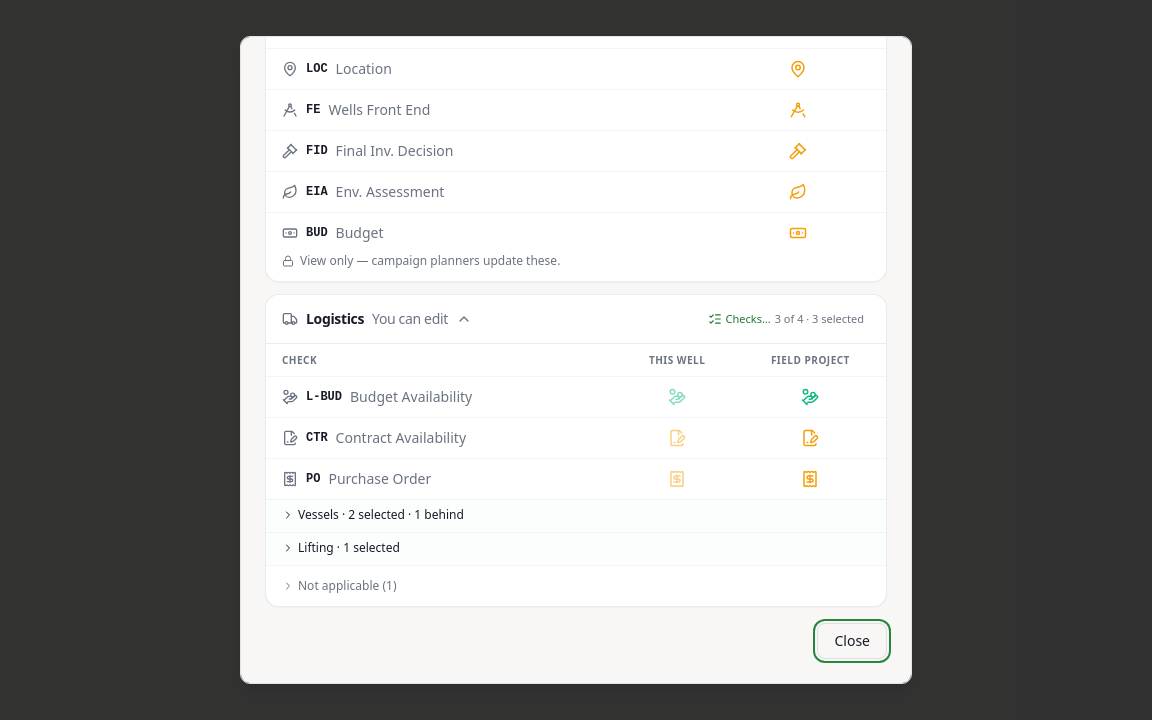
Readiness panel — category sub-sections (spec §8.8) › the field-project column is blank where the field project didn't select the type
(page scrolled)
Step 1. Click the button "Lifting · 1 selected" → coordinates (341, 548), box [278,540,404,556]
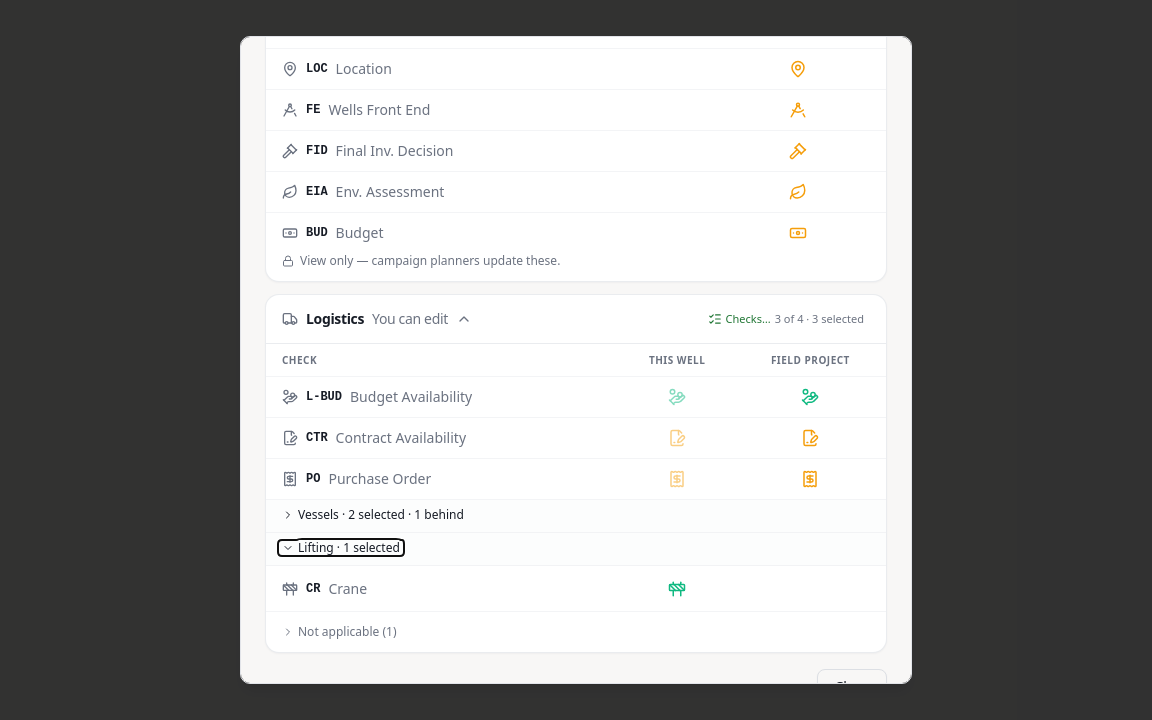
Expected: the button titled "Crane: Completed" is shown, [663,574,691,602]
